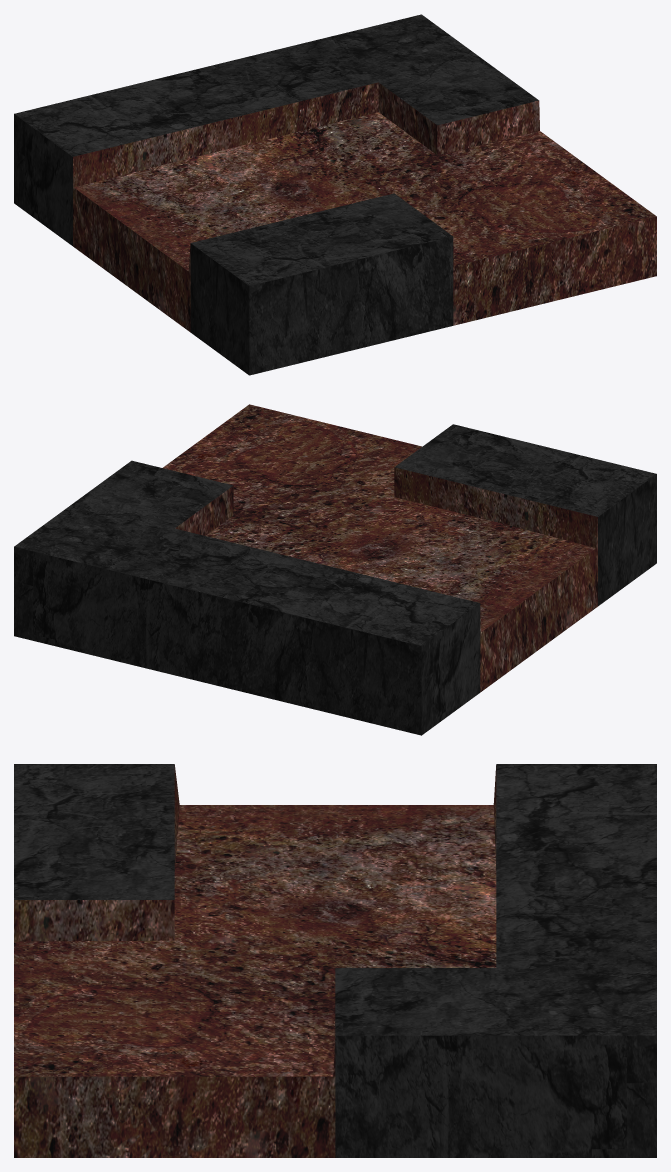
File: EnemyPath11.fbx
3 views of the same model, one above another, from view 1: azimuth 30°, elevation 25°; view 2: azimuth 150°, elevation 25°; view 3: azimuth 270°, elevation 25° (orthographic). The views are drawn at different scales.
Visible parts, largest first — view 1: EnemyPath11; view 2: EnemyPath11; view 3: EnemyPath11.
Boxes of the visible parts, <box> form: EnemyPath11: <box>14,14,656,375</box>; EnemyPath11: <box>14,404,656,735</box>; EnemyPath11: <box>14,764,656,1157</box>.
Bounding box in the file's own units: 100 × 20.97 × 100.
2 materials, 2 textured.
